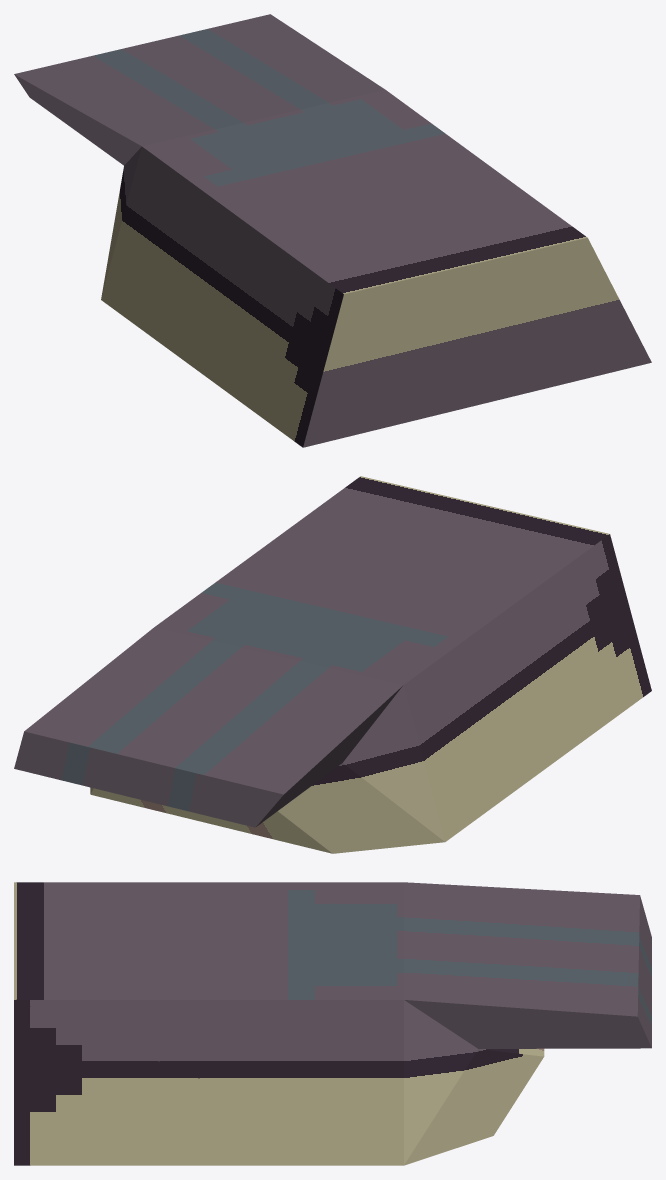
The model's file is armadillo_foot.glb.
3 views of the same model, one above another, from view 1: azimuth 30°, elevation 25°; view 2: azimuth 150°, elevation 25°; view 3: azimuth 270°, elevation 25° (orthographic). The views are drawn at different scales.
Visible parts, largest first — view 1: Cube.118; view 2: Cube.118; view 3: Cube.118.
Part boxes in pixels (<box>): Cube.118: <box>14,14,651,447</box>; Cube.118: <box>14,476,651,853</box>; Cube.118: <box>14,882,651,1165</box>.
Size of the model in its own units: 1.62 by 0.6384 by 2.67.
Materials: 1 (1 with a texture image).
